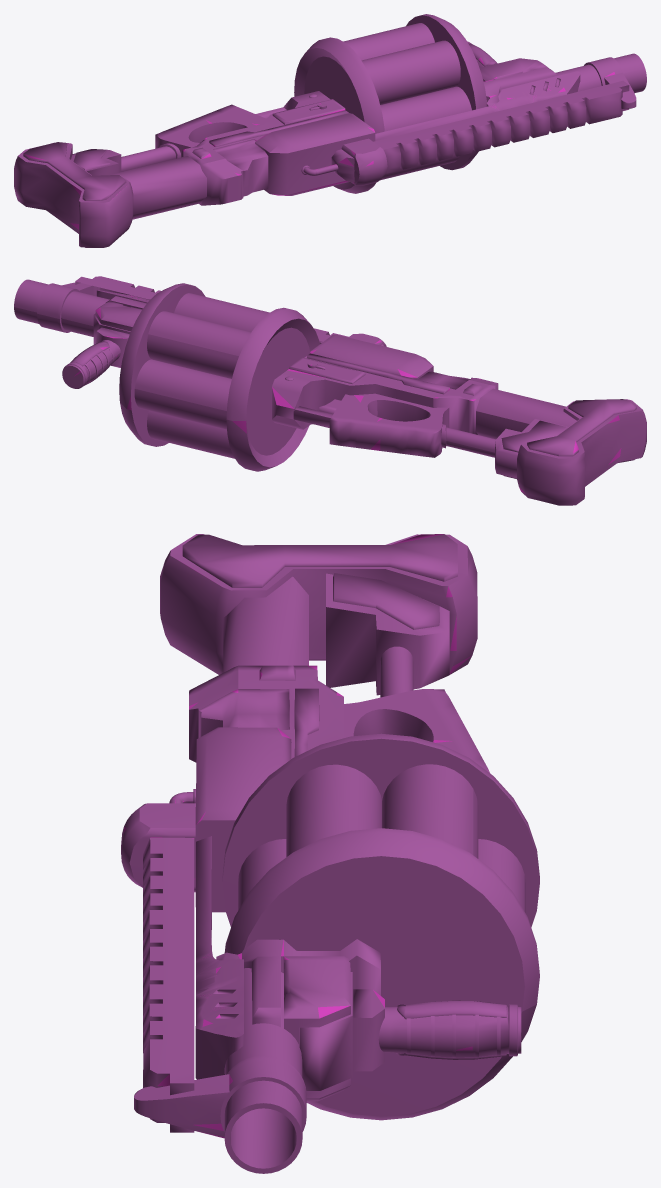
The model's file is RipScript.fbx.
3 renders of one model, top to bottom at view 1: azimuth 30°, elevation 25°; view 2: azimuth 150°, elevation 25°; view 3: azimuth 270°, elevation 25°, orthographic. The views are drawn at different scales.
Parts seen in each view (by area): view 1: 000-0-0; view 2: 000-0-0; view 3: 000-0-0.
Boxes of the visible parts, box(x1,y1,x2,y2) form: 000-0-0: box(14, 14, 646, 247); 000-0-0: box(14, 276, 646, 505); 000-0-0: box(121, 534, 539, 1173).
Size of the model in its own units: 343 by 82.17 by 108.
